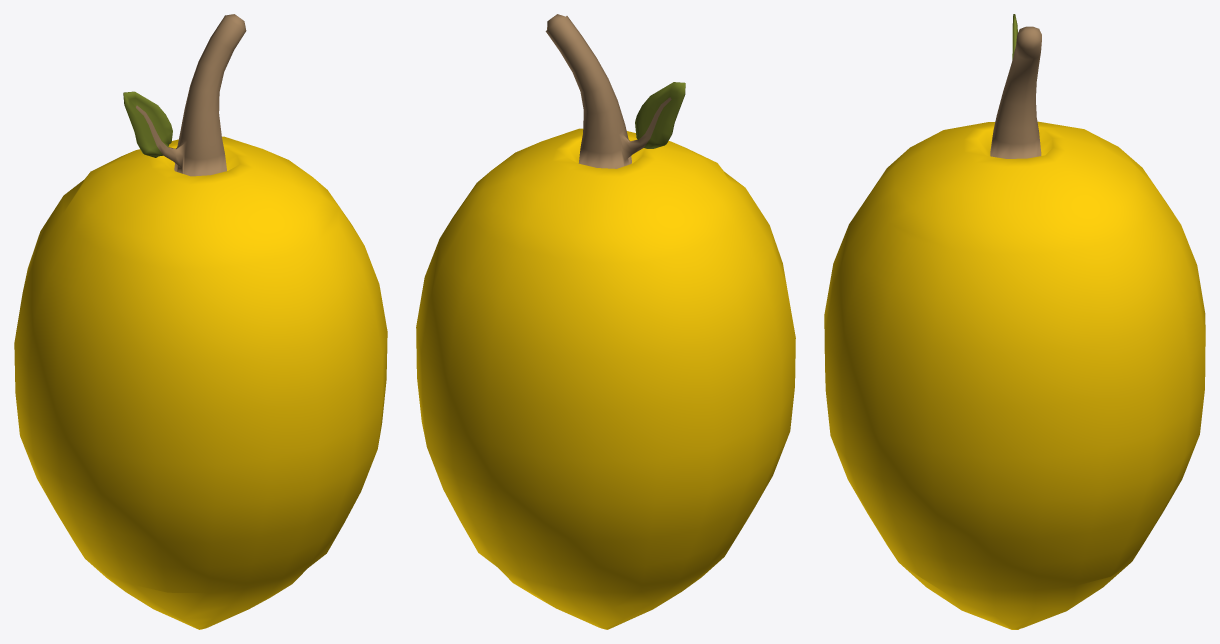
File: Fruit_Collectable_Yellow.fbx
3 views of the same model, side by side, from view 1: azimuth 30°, elevation 25°; view 2: azimuth 150°, elevation 25°; view 3: azimuth 270°, elevation 25° (orthographic). The views are drawn at different scales.
Visible parts, largest first — view 1: Cube; view 2: Cube; view 3: Cube.
Part boxes in pixels (x1=…): Cube: x1=14, y1=14, x2=387, y2=629; Cube: x1=416, y1=14, x2=795, y2=629; Cube: x1=824, y1=14, x2=1205, y2=629.
Bounding box in the file's own units: 179 × 179 × 320.
